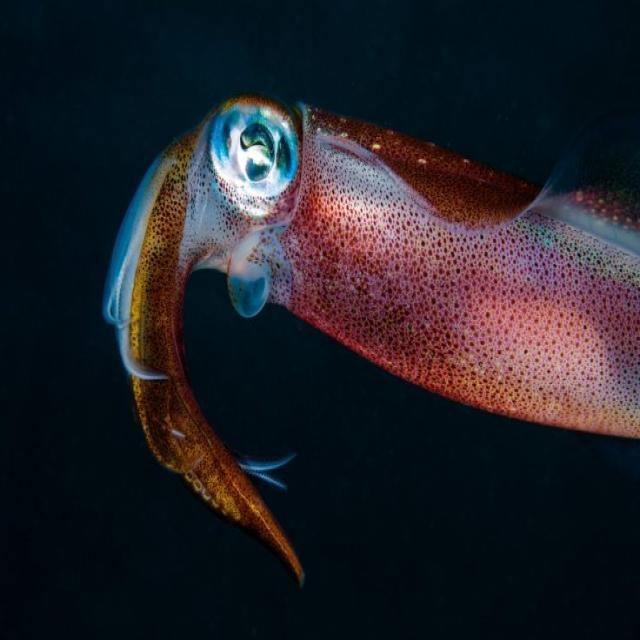SQUID: (95, 85, 640, 593)
